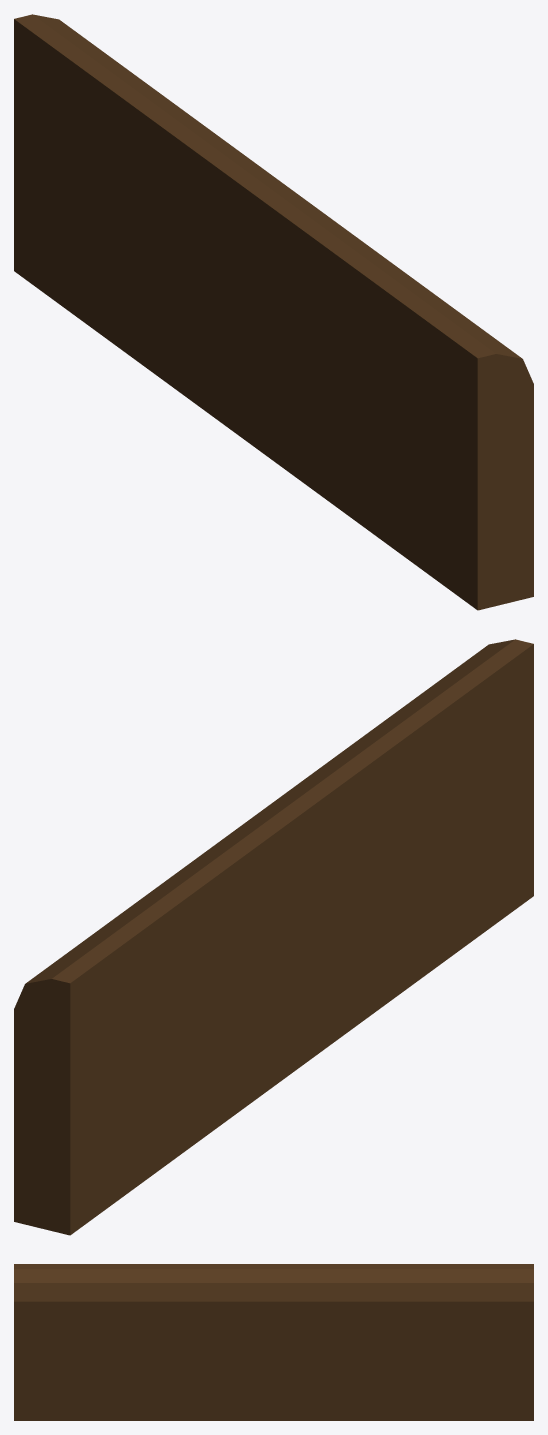
Rendered from SkirtingSingle.fbx.
3 renders of one model, top to bottom at view 1: azimuth 30°, elevation 25°; view 2: azimuth 150°, elevation 25°; view 3: azimuth 270°, elevation 25°, orthographic. The views are drawn at different scales.
Parts seen in each view (by area): view 1: CornerWall; view 2: CornerWall; view 3: CornerWall.
Boxes of the visible parts, left/top/right/bottom form: CornerWall: left=14, top=14, right=533, bottom=610; CornerWall: left=14, top=639, right=533, bottom=1235; CornerWall: left=14, top=1264, right=533, bottom=1420.
Size of the model in its own units: 7 by 30 by 100.
